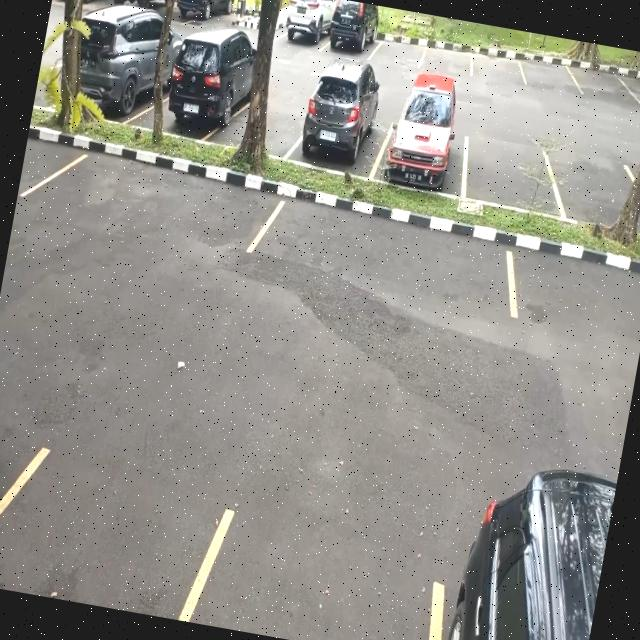empty: (260, 179, 530, 319), (38, 140, 274, 262), (458, 125, 564, 214), (550, 147, 640, 239), (571, 58, 634, 104), (420, 30, 478, 76), (519, 49, 577, 93), (372, 21, 425, 69), (469, 41, 525, 85)
occupied: (286, 69, 394, 181), (376, 88, 479, 199), (70, 9, 164, 129), (160, 36, 257, 146), (323, 0, 381, 62), (275, 0, 335, 58)
